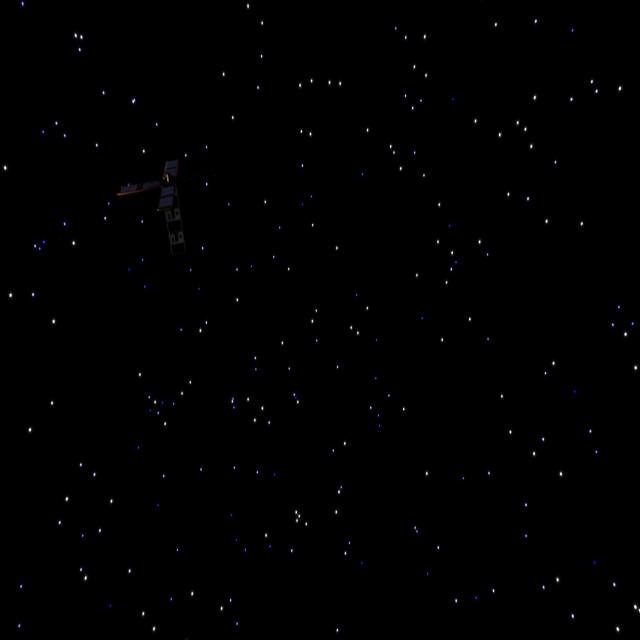medium_debris: (111, 148, 216, 259)
